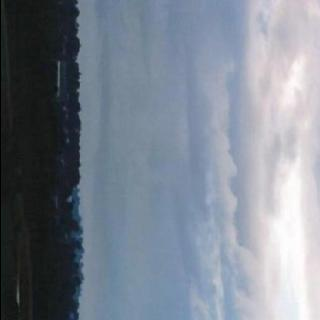Stratocumulus: (92, 0, 320, 320)
